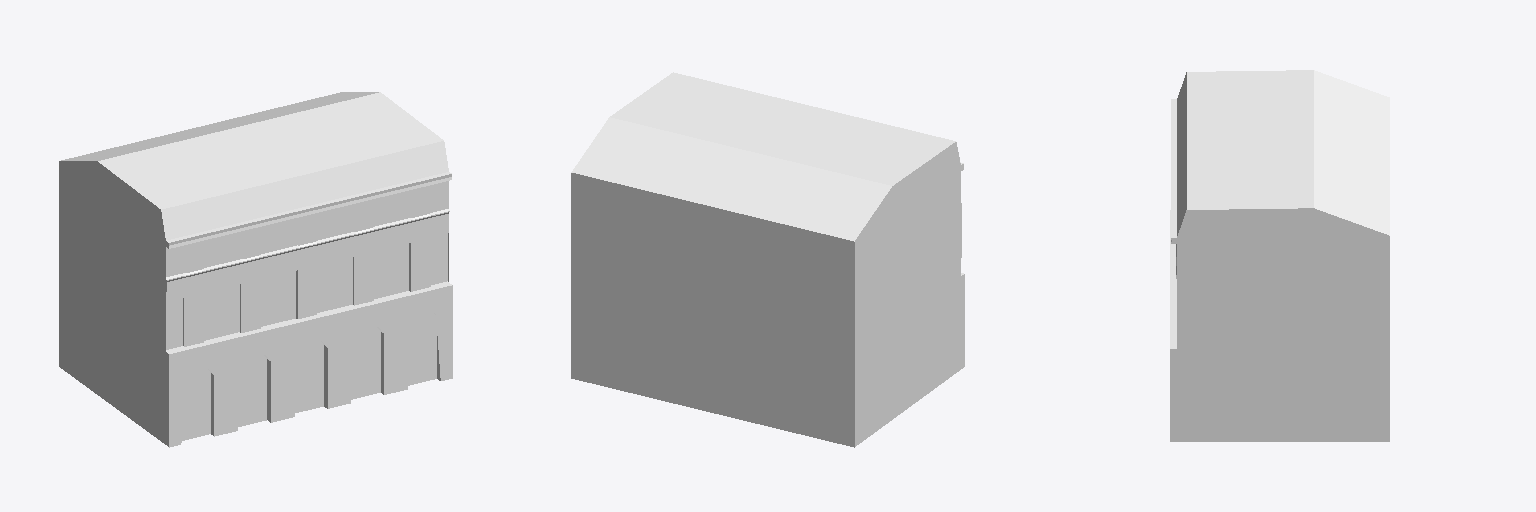
Rendered from Louvre_part.obj.
3 views of the same model, side by side, from view 1: azimuth 30°, elevation 25°; view 2: azimuth 150°, elevation 25°; view 3: azimuth 270°, elevation 25° (orthographic).
Visible parts, largest first — view 1: Cube3; view 2: Cube3; view 3: Cube3.
Part boxes in pixels (left/top/right/bottom): Cube3: left=59, top=92, right=452, bottom=447; Cube3: left=571, top=72, right=964, bottom=447; Cube3: left=1170, top=70, right=1389, bottom=441.
Size of the model in its own units: 1.28 by 1.01 by 0.8596.